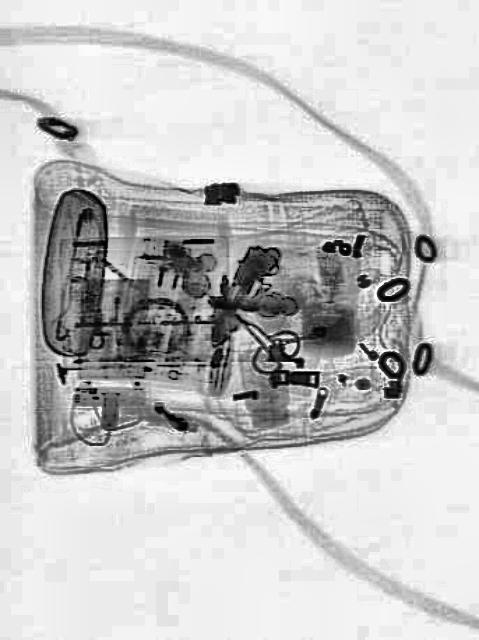Scissors: (216, 282, 304, 388)
